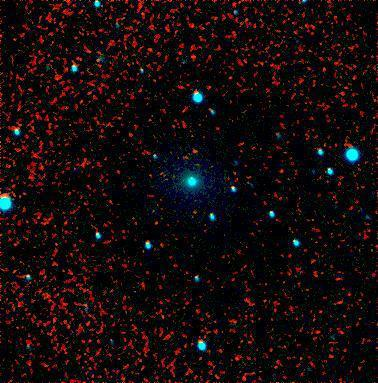star: (184, 137, 214, 167)
